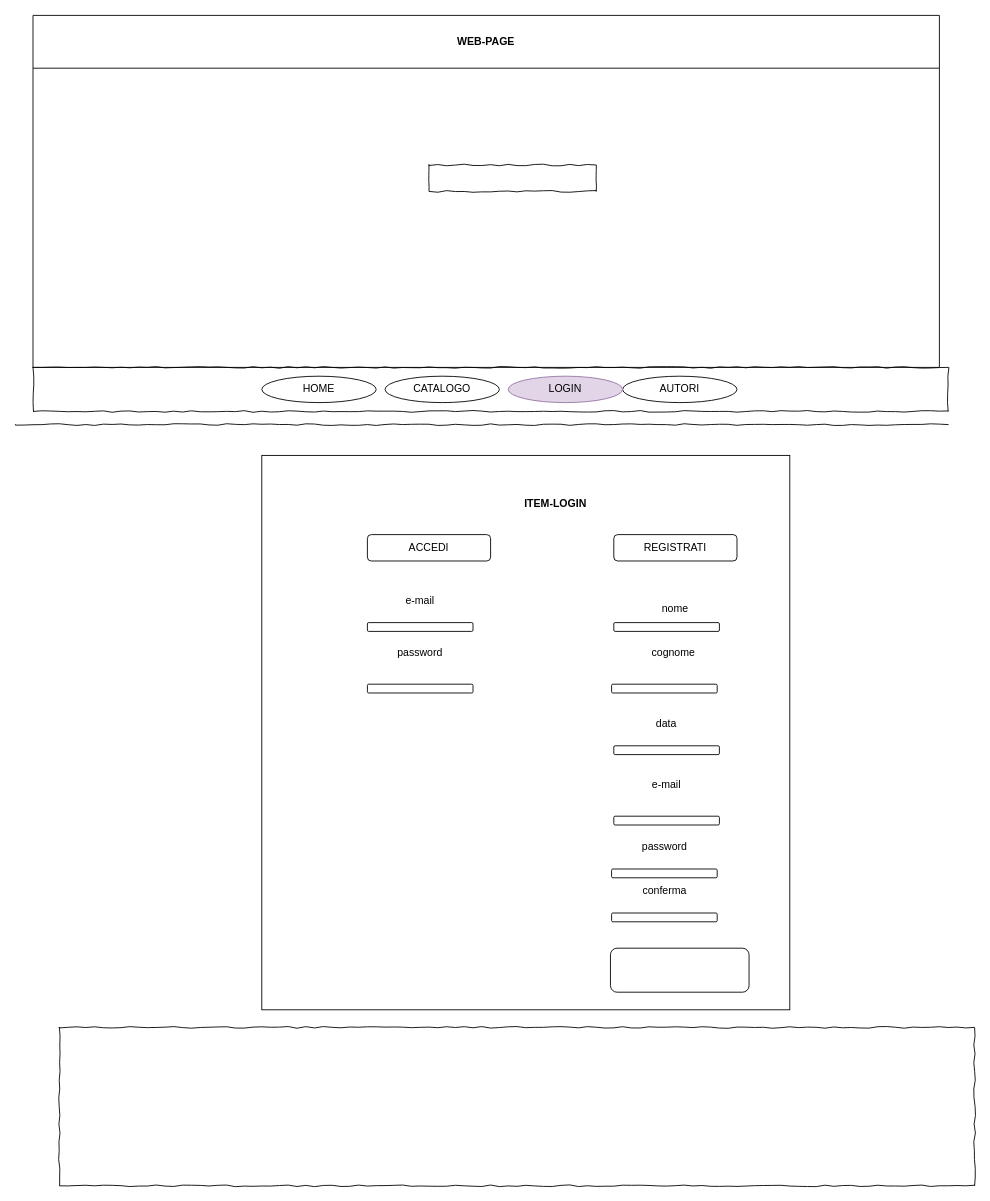
The diagram is 990 pixels wide and 1201 high, and some of its shapes have lost their labels. Each missing label, with the centre of its shape:
FOOTER: (x=517, y=1106)
INVIA: (x=679, y=969)
logo img: (x=512, y=177)
